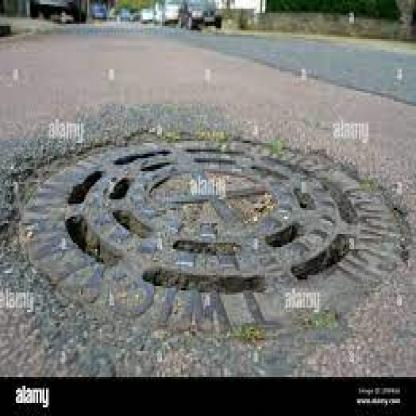open drainage-not overflowing-: (15, 135, 413, 329)
